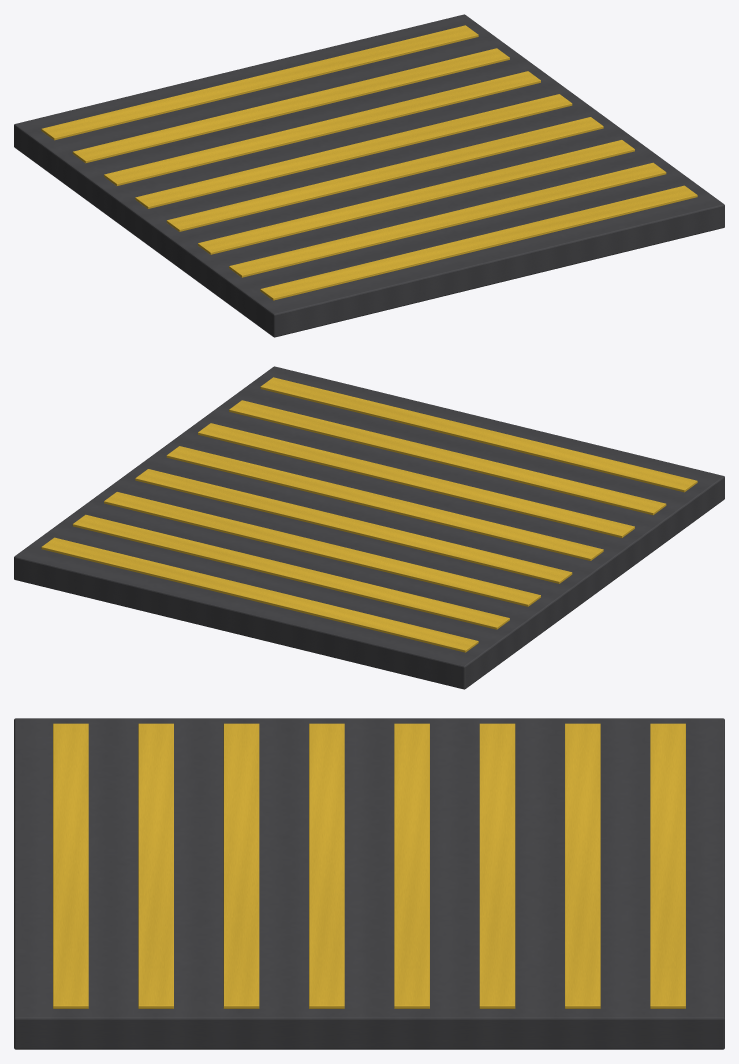
Rendered from warning_floor.glb.
3 renders of one model, top to bottom at view 1: azimuth 30°, elevation 25°; view 2: azimuth 150°, elevation 25°; view 3: azimuth 270°, elevation 25°, orthographic. The views are drawn at different scales.
Parts seen in each view (by area): view 1: floor.003, stripe.006, stripe, stripe.007, stripe.001, stripe.003, stripe.004, stripe.005, stripe.002; view 2: floor.003, stripe.001, stripe, stripe.007, stripe.003, stripe.004, stripe.006, stripe.002, stripe.005; view 3: floor.003, stripe.002, stripe.005, stripe, stripe.001, stripe.003, stripe.004, stripe.006, stripe.007.
Boxes of the visible parts, bbox=[...] form: floor.003: bbox=[14, 14, 724, 337]; stripe.006: bbox=[72, 48, 509, 163]; stripe: bbox=[260, 185, 697, 300]; stripe.007: bbox=[41, 25, 478, 140]; stripe.001: bbox=[229, 162, 666, 277]; stripe.003: bbox=[166, 117, 603, 231]; stripe.004: bbox=[135, 94, 572, 208]; stripe.005: bbox=[104, 71, 540, 185]; stripe.002: bbox=[198, 140, 634, 254]; floor.003: bbox=[14, 366, 724, 689]; stripe.001: bbox=[229, 400, 666, 515]; stripe: bbox=[260, 377, 697, 492]; stripe.007: bbox=[41, 537, 478, 652]; stripe.003: bbox=[166, 446, 603, 560]; stripe.004: bbox=[135, 469, 572, 583]; stripe.006: bbox=[72, 514, 509, 629]; stripe.002: bbox=[198, 423, 634, 537]; stripe.005: bbox=[104, 492, 540, 606]; floor.003: bbox=[14, 718, 724, 1049]; stripe.002: bbox=[223, 723, 259, 1008]; stripe.005: bbox=[479, 723, 515, 1008]; stripe: bbox=[53, 723, 88, 1008]; stripe.001: bbox=[138, 723, 173, 1008]; stripe.003: bbox=[309, 723, 344, 1008]; stripe.004: bbox=[394, 723, 429, 1008]; stripe.006: bbox=[565, 723, 600, 1008]; stripe.007: bbox=[650, 723, 685, 1008].
Size of the model in its own units: 2 by 0.11 by 2.
Materials: 2 (2 with a texture image).
